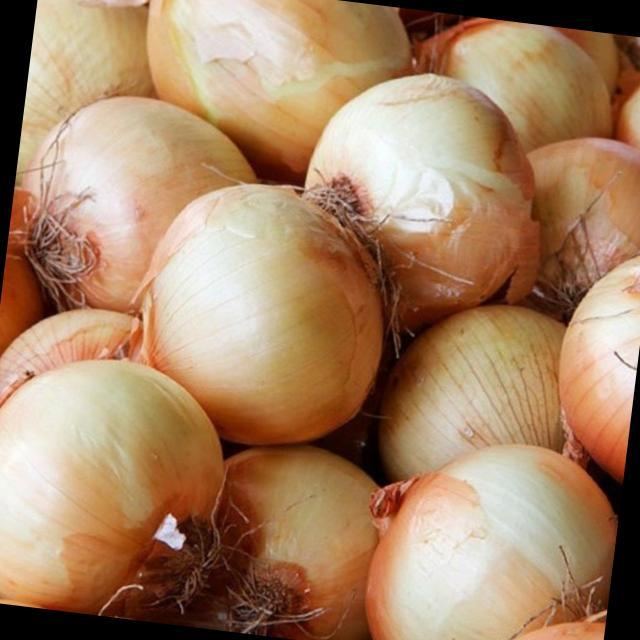ONIONS: (131, 165, 398, 440), (0, 342, 239, 615), (296, 59, 549, 310), (361, 425, 619, 640), (198, 414, 434, 630), (375, 268, 588, 500), (136, 0, 416, 165), (29, 84, 228, 282), (426, 12, 606, 139), (546, 235, 640, 476), (524, 133, 640, 289), (25, 0, 151, 118)
